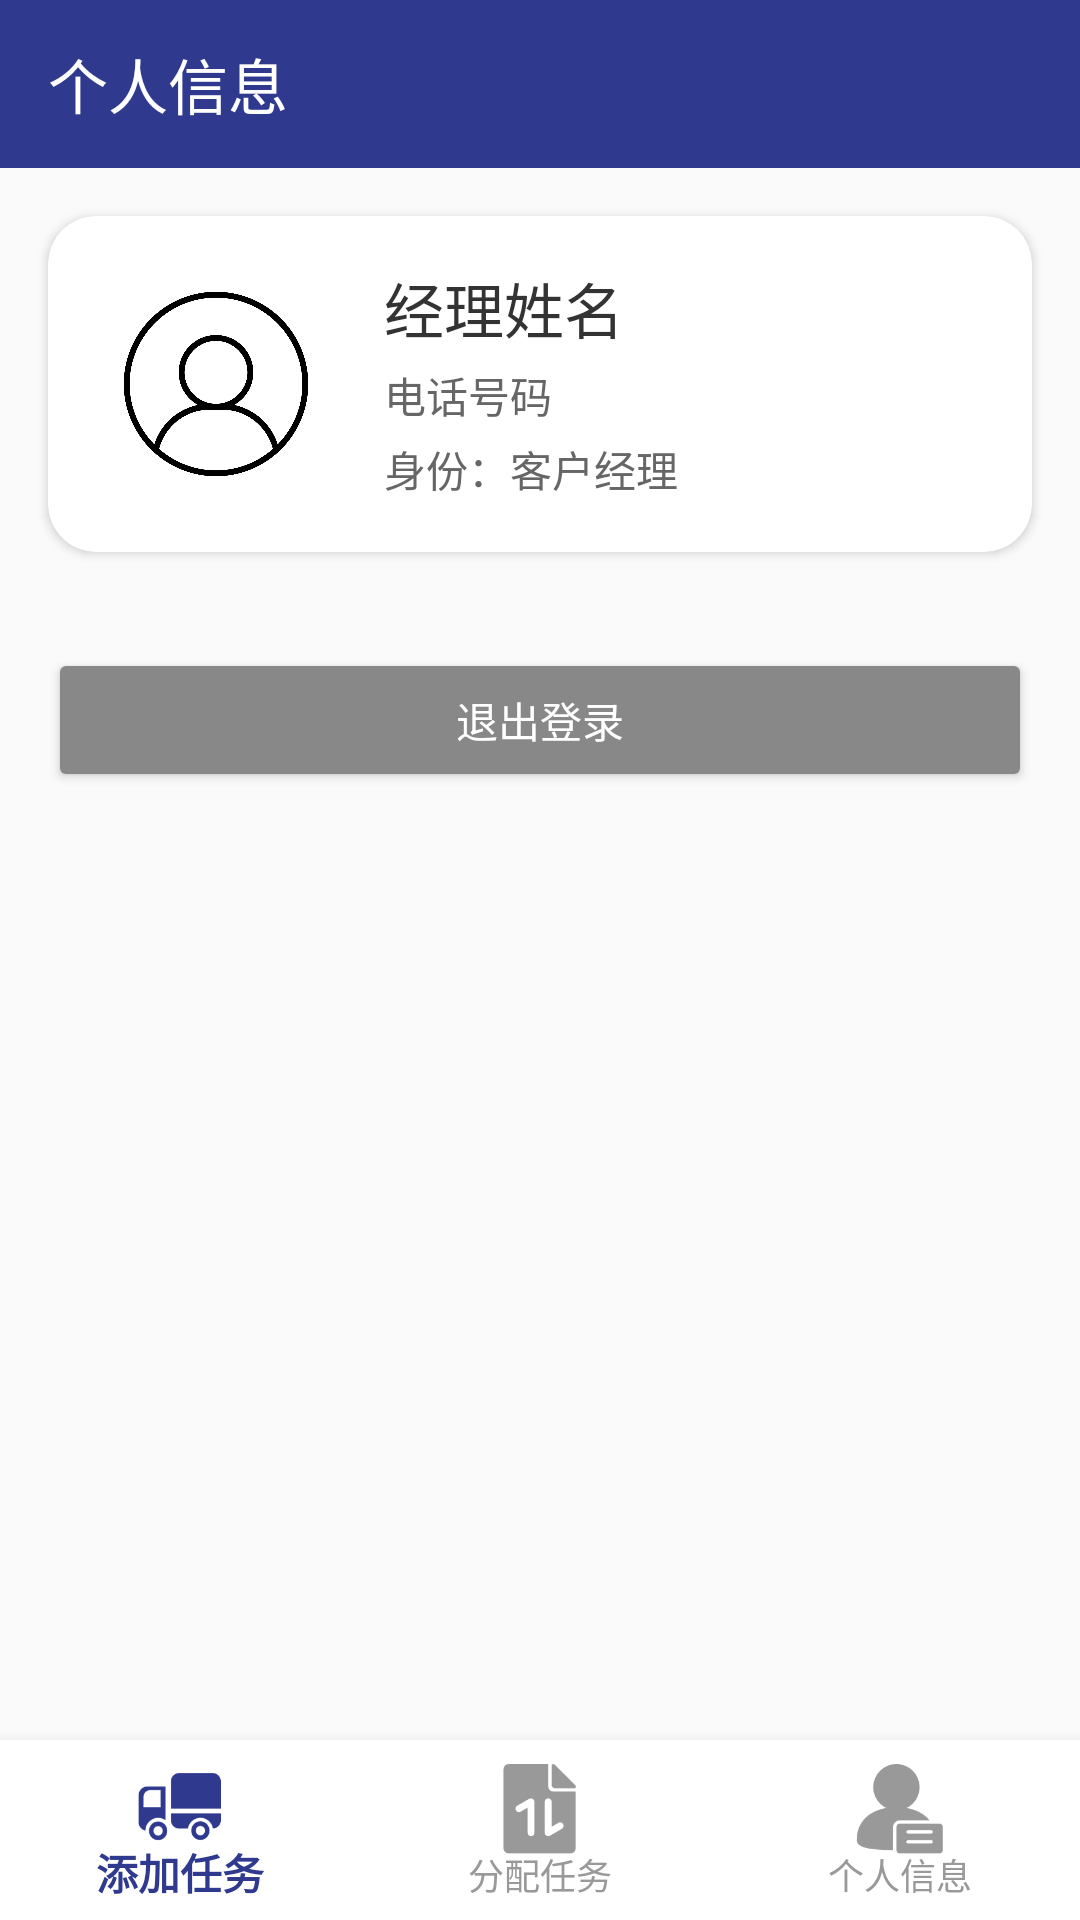

Where icons sit on this 1080 x 1920 app screen, as (x1, y1, x2, y2):
profiler: (124, 292, 308, 476)
